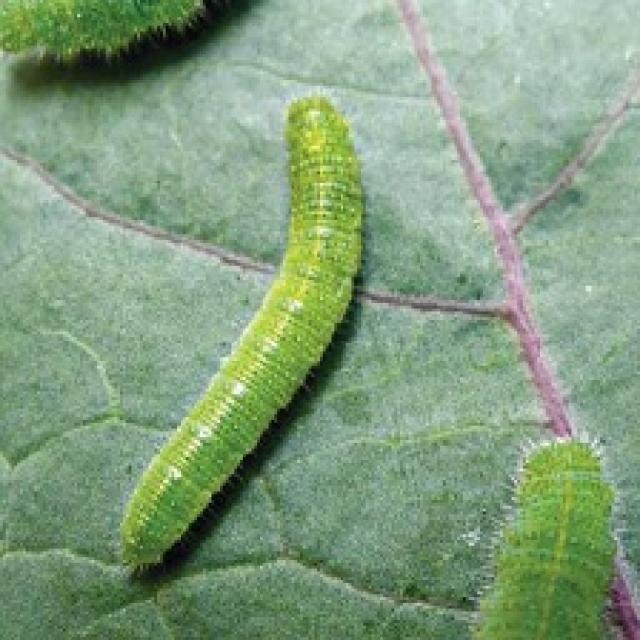Cabbage-worm: (119, 93, 373, 606), (457, 440, 640, 640), (1, 1, 219, 68)
